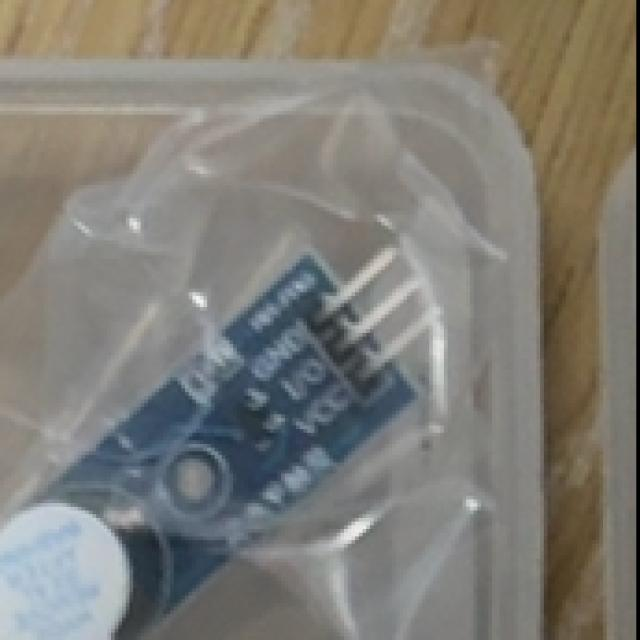Buzzer: (0, 239, 444, 640)
